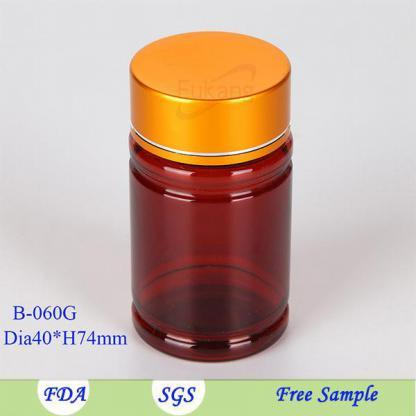jar: (130, 32, 292, 360)
